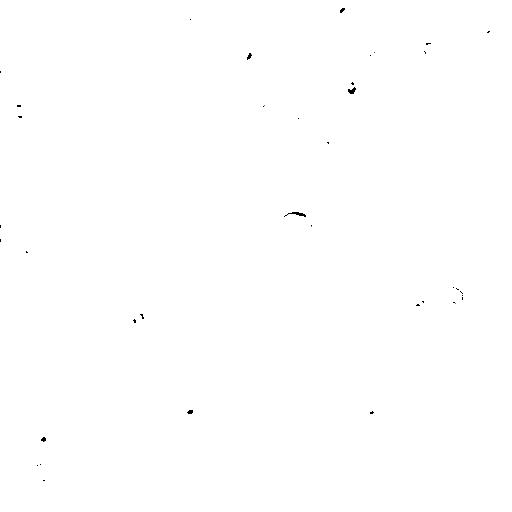micro-algae: (23, 75, 86, 135), (217, 167, 273, 220), (257, 186, 311, 238), (480, 1, 511, 71), (236, 50, 273, 87), (209, 39, 244, 74), (27, 460, 62, 493), (354, 84, 387, 118), (27, 421, 60, 455), (277, 211, 314, 241), (1, 331, 24, 373), (160, 429, 190, 460), (177, 397, 207, 427), (267, 158, 292, 191), (272, 27, 297, 56), (215, 19, 239, 48), (123, 16, 157, 36), (113, 40, 144, 61), (191, 58, 214, 85), (441, 283, 466, 307), (443, 175, 467, 198), (384, 373, 410, 394), (182, 145, 206, 167), (34, 333, 59, 354), (148, 76, 174, 95), (419, 91, 441, 113), (408, 295, 431, 316), (230, 330, 251, 352), (67, 330, 90, 350), (177, 19, 202, 37), (230, 223, 251, 244), (155, 130, 177, 150), (194, 196, 213, 219), (1, 221, 20, 244), (334, 2, 355, 22), (497, 210, 512, 238), (127, 308, 149, 327), (9, 101, 29, 121), (175, 315, 195, 335), (333, 379, 353, 399), (367, 49, 385, 71), (258, 326, 278, 345), (175, 274, 193, 295), (9, 317, 28, 336), (492, 101, 508, 123), (9, 67, 28, 85), (342, 160, 361, 178), (135, 156, 154, 174), (322, 35, 339, 55), (284, 107, 305, 123), (10, 249, 31, 265), (117, 251, 135, 269), (303, 32, 320, 51), (384, 103, 401, 122), (155, 246, 172, 265), (219, 386, 239, 402), (237, 0, 258, 15), (259, 100, 280, 115), (318, 137, 338, 152), (231, 47, 250, 61), (240, 78, 256, 93), (375, 20, 390, 35), (420, 41, 436, 55), (367, 408, 381, 423), (25, 50, 41, 63), (359, 137, 372, 153), (311, 0, 336, 8), (345, 80, 357, 95), (486, 26, 499, 39), (240, 445, 252, 458), (398, 503, 415, 511), (1, 71, 6, 89), (88, 0, 108, 4)
